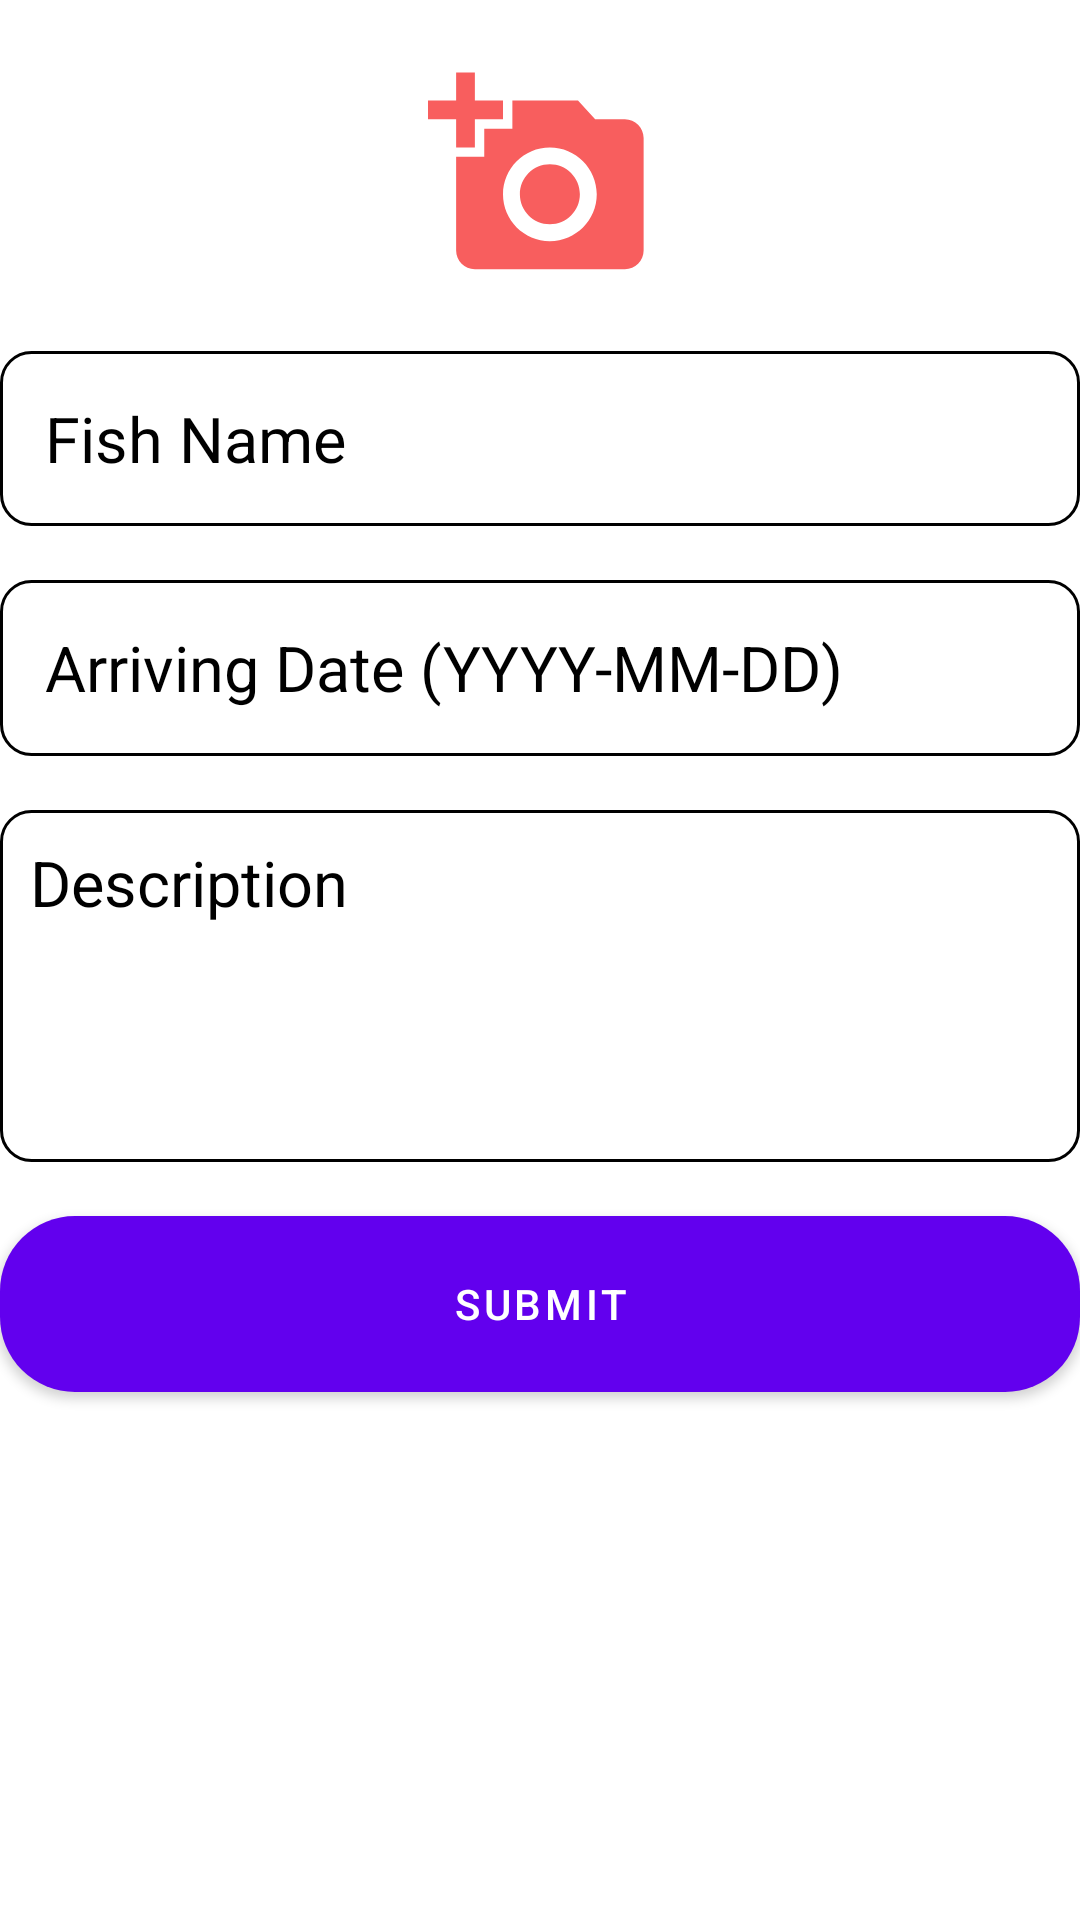

Screen size 1080w x 1920h. Icon name, then its center in pixels as point (x, y):
add photo: point (536, 171)
